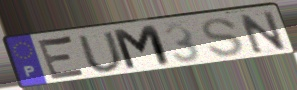3: (164, 22, 202, 64)
E: (36, 34, 89, 82)
M: (109, 23, 175, 73)
N: (236, 9, 290, 56)
S: (199, 17, 246, 59)
U: (75, 30, 127, 74)
